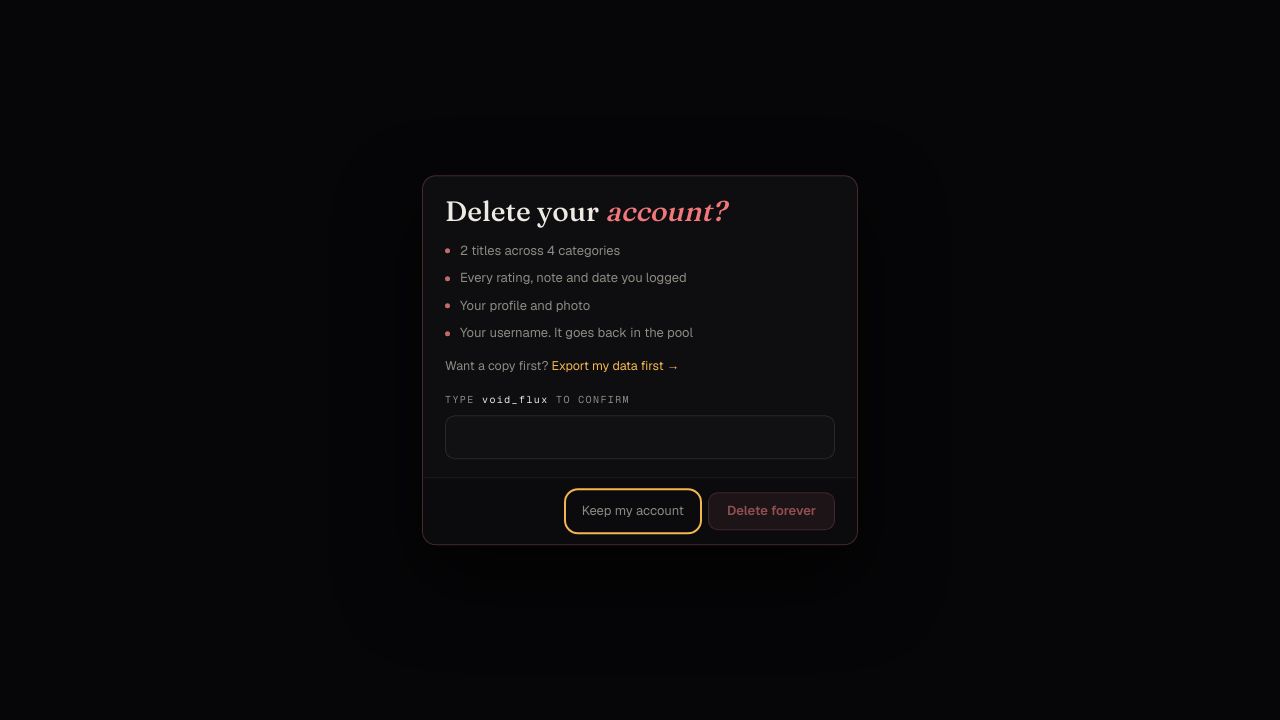
DeleteAccountDialog › starts empty, with no hint of the username, and stays locked until it's typed exactly
Expected: the button "Delete forever" is disabled, [708,492,835,530]
Type "Void_flux" into the field labelled "Type void_flux to confirm".
click(640, 437); type("Void_flux")  # box [445,415,835,459]
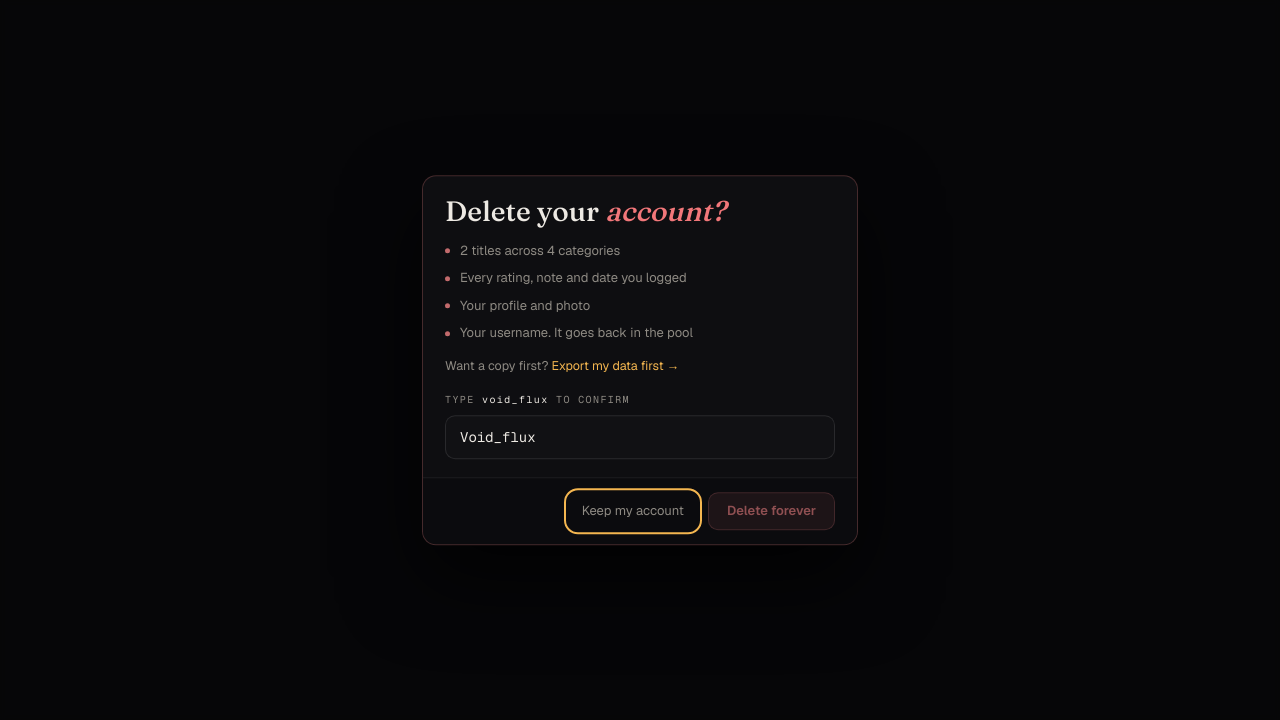
Expected: the button "Delete forever" is disabled, [708,492,835,530]
Replace the text in the field labelled "Type void_flux to confirm" with "void_flux" at (640, 437), box [445,415,835,459]
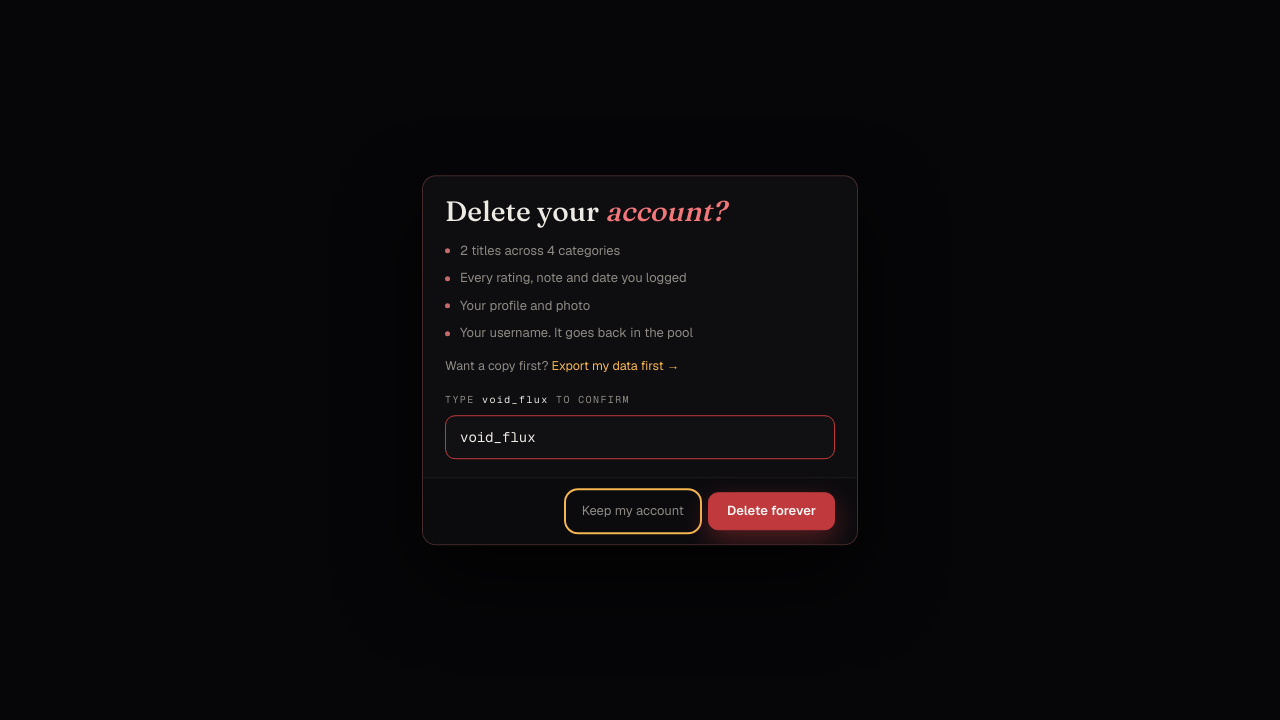
Now the button "Delete forever" is enabled, box [708,492,835,530]
